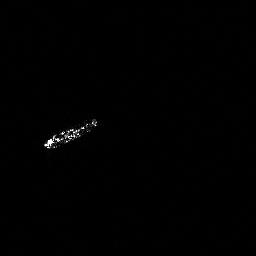ship: (43, 117, 99, 151)
